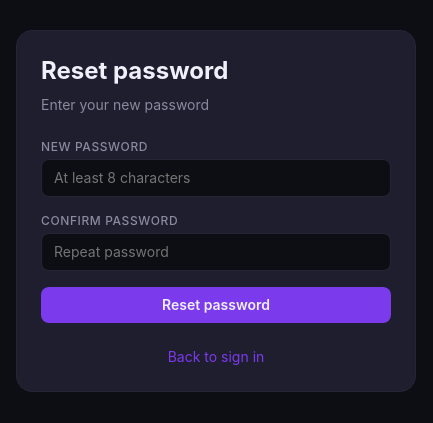
Scenario: ResetPasswordPage › should display API error on failure
This screenshot has width=433, height=423.
Type "newpassword123" into the password field labelled "New password" at {"x": 216, "y": 178}, box [41, 159, 391, 197]
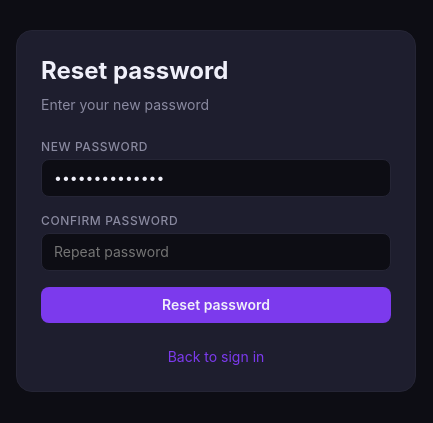
Type "newpassword123" into the password field labelled "Confirm password" at {"x": 216, "y": 252}, box [41, 233, 391, 271]
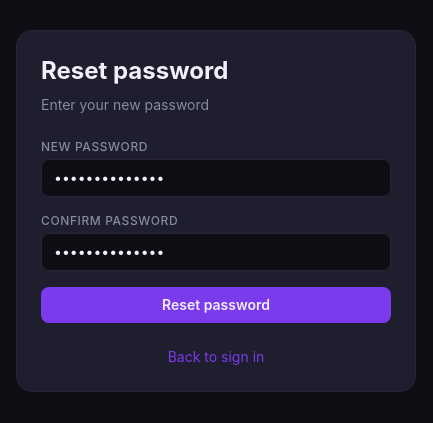
Click the button "Reset password" at {"x": 216, "y": 305}, box [41, 287, 391, 323]
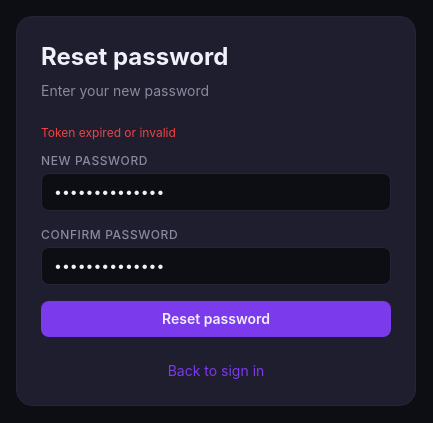
Check: the text "Token expired or invalid" is shown, box [41, 125, 176, 140]
